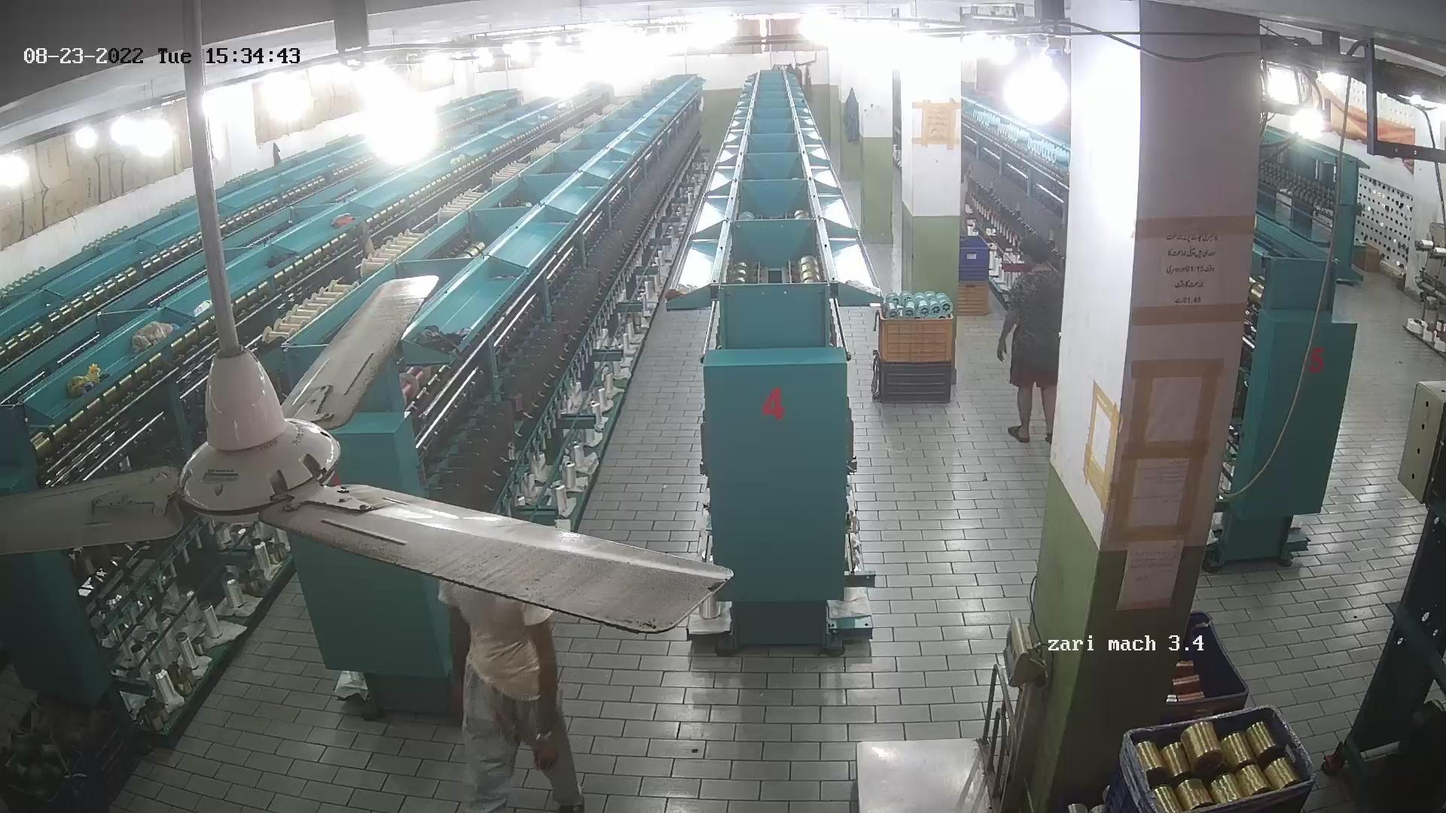person: (441, 583, 586, 809), (1001, 244, 1064, 445)
